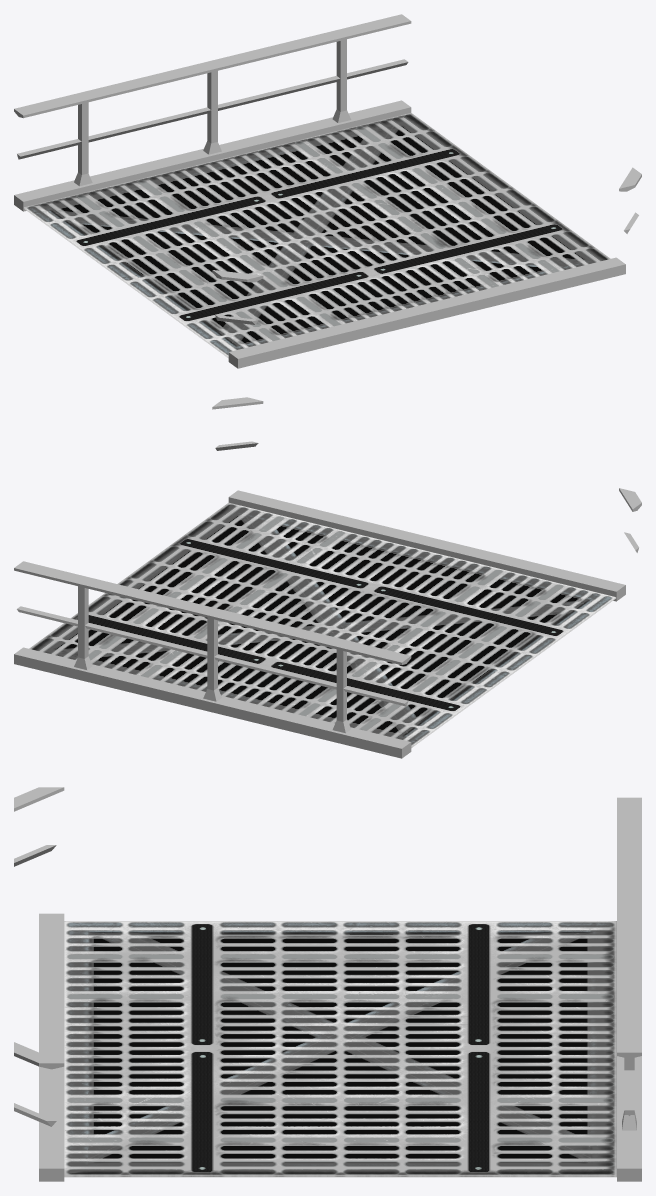
Rendered from PlateForm_Line_02.FBX.
3 renders of one model, top to bottom at view 1: azimuth 30°, elevation 25°; view 2: azimuth 150°, elevation 25°; view 3: azimuth 270°, elevation 25°, orthographic. The views are drawn at different scales.
Visible parts, largest first — view 1: PlateForm_Line_02; view 2: PlateForm_Line_02; view 3: PlateForm_Line_02.
Part boxes in pixels (<box>): PlateForm_Line_02: <box>14,14,641,368</box>; PlateForm_Line_02: <box>14,397,641,758</box>; PlateForm_Line_02: <box>14,787,641,1181</box>.
Bounding box in the file's own units: 6.5 × 1.42 × 6.25.
